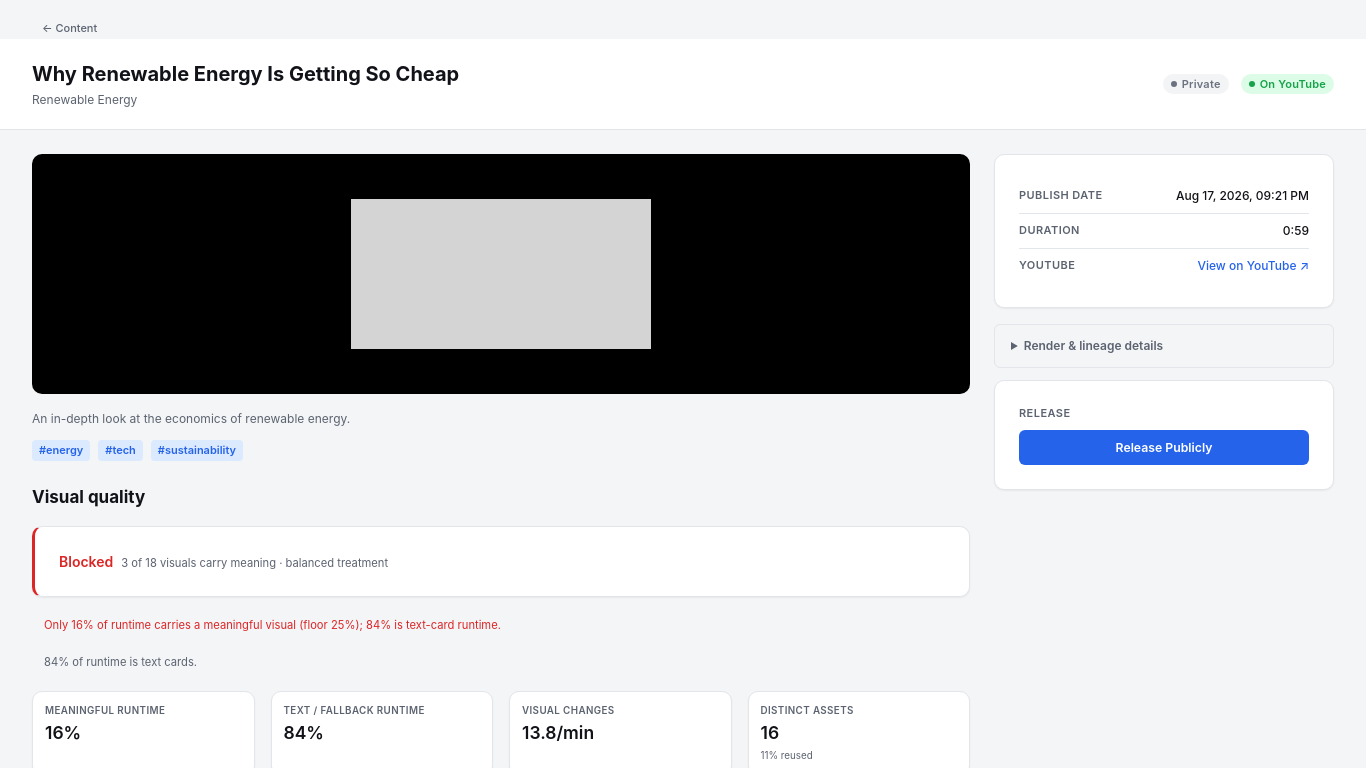
Test: Confirmation modal › closes modal on Cancel
The width and height of the screenshot is (1366, 768).
Click the button "Release Publicly": (1164, 447) top-left (1019, 430), bottom-right (1309, 464)
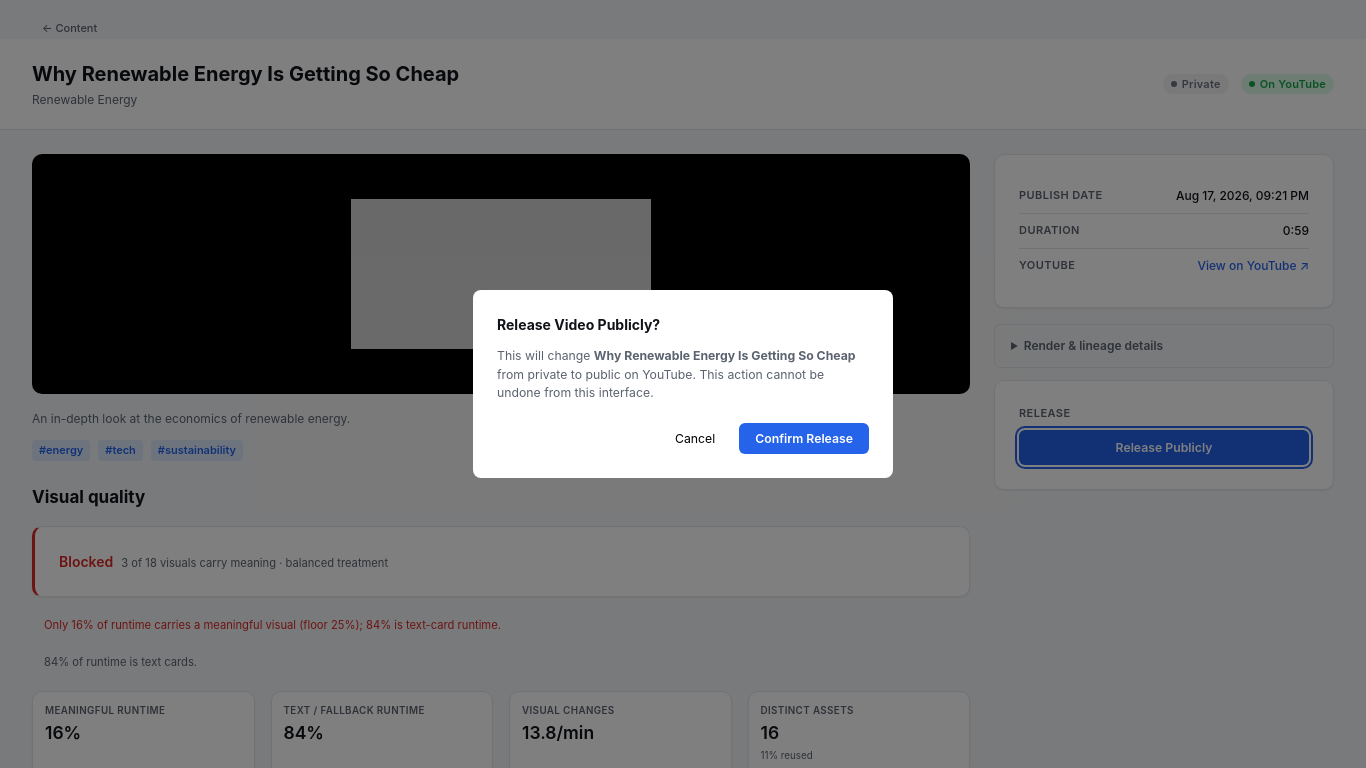
Click the button "Cancel": (695, 438) top-left (659, 423), bottom-right (731, 454)
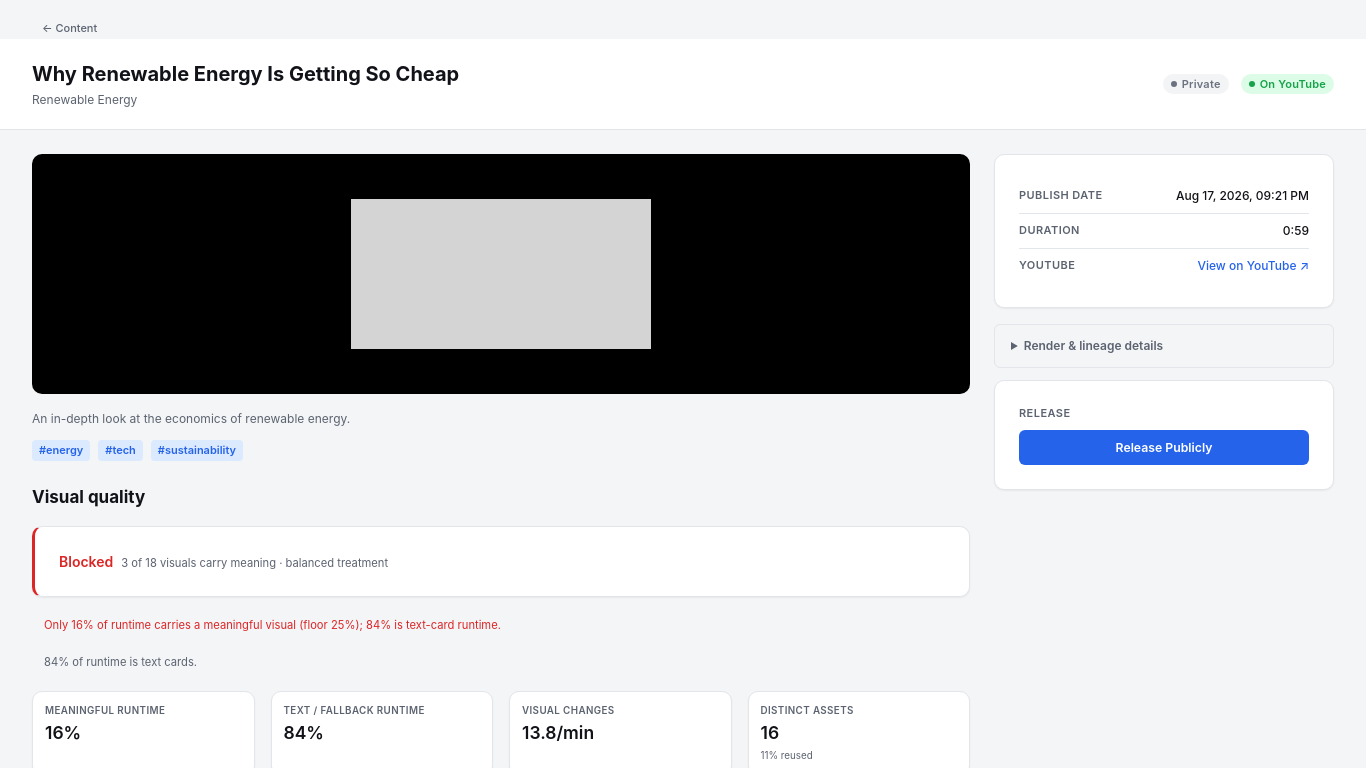
Result: the dialog is gone
